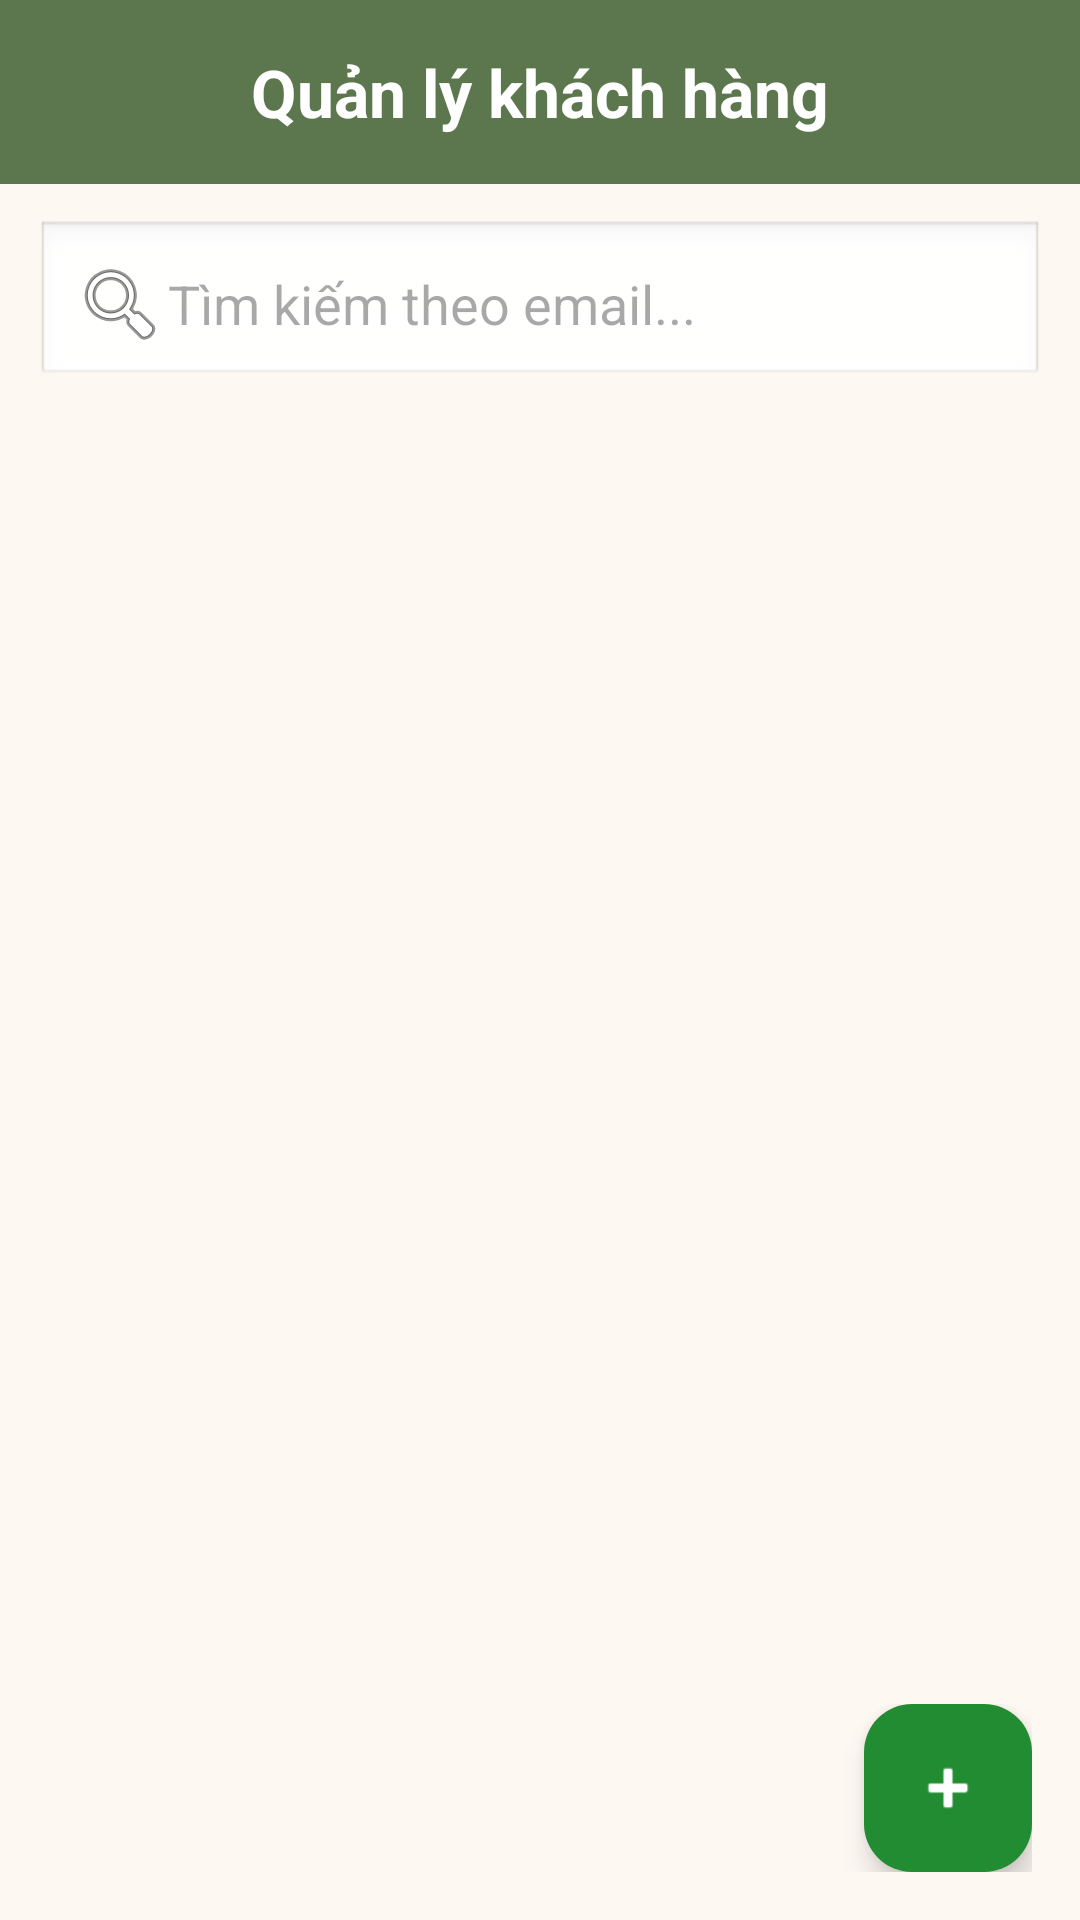

Icons on this 1080 x 1920 Android screen, each with its box as box(x1, y1, x2, y2):
Thêm người dùng: box(864, 1704, 1032, 1872)
